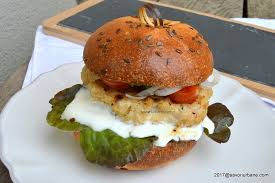hamburger: (66, 12, 219, 172)
